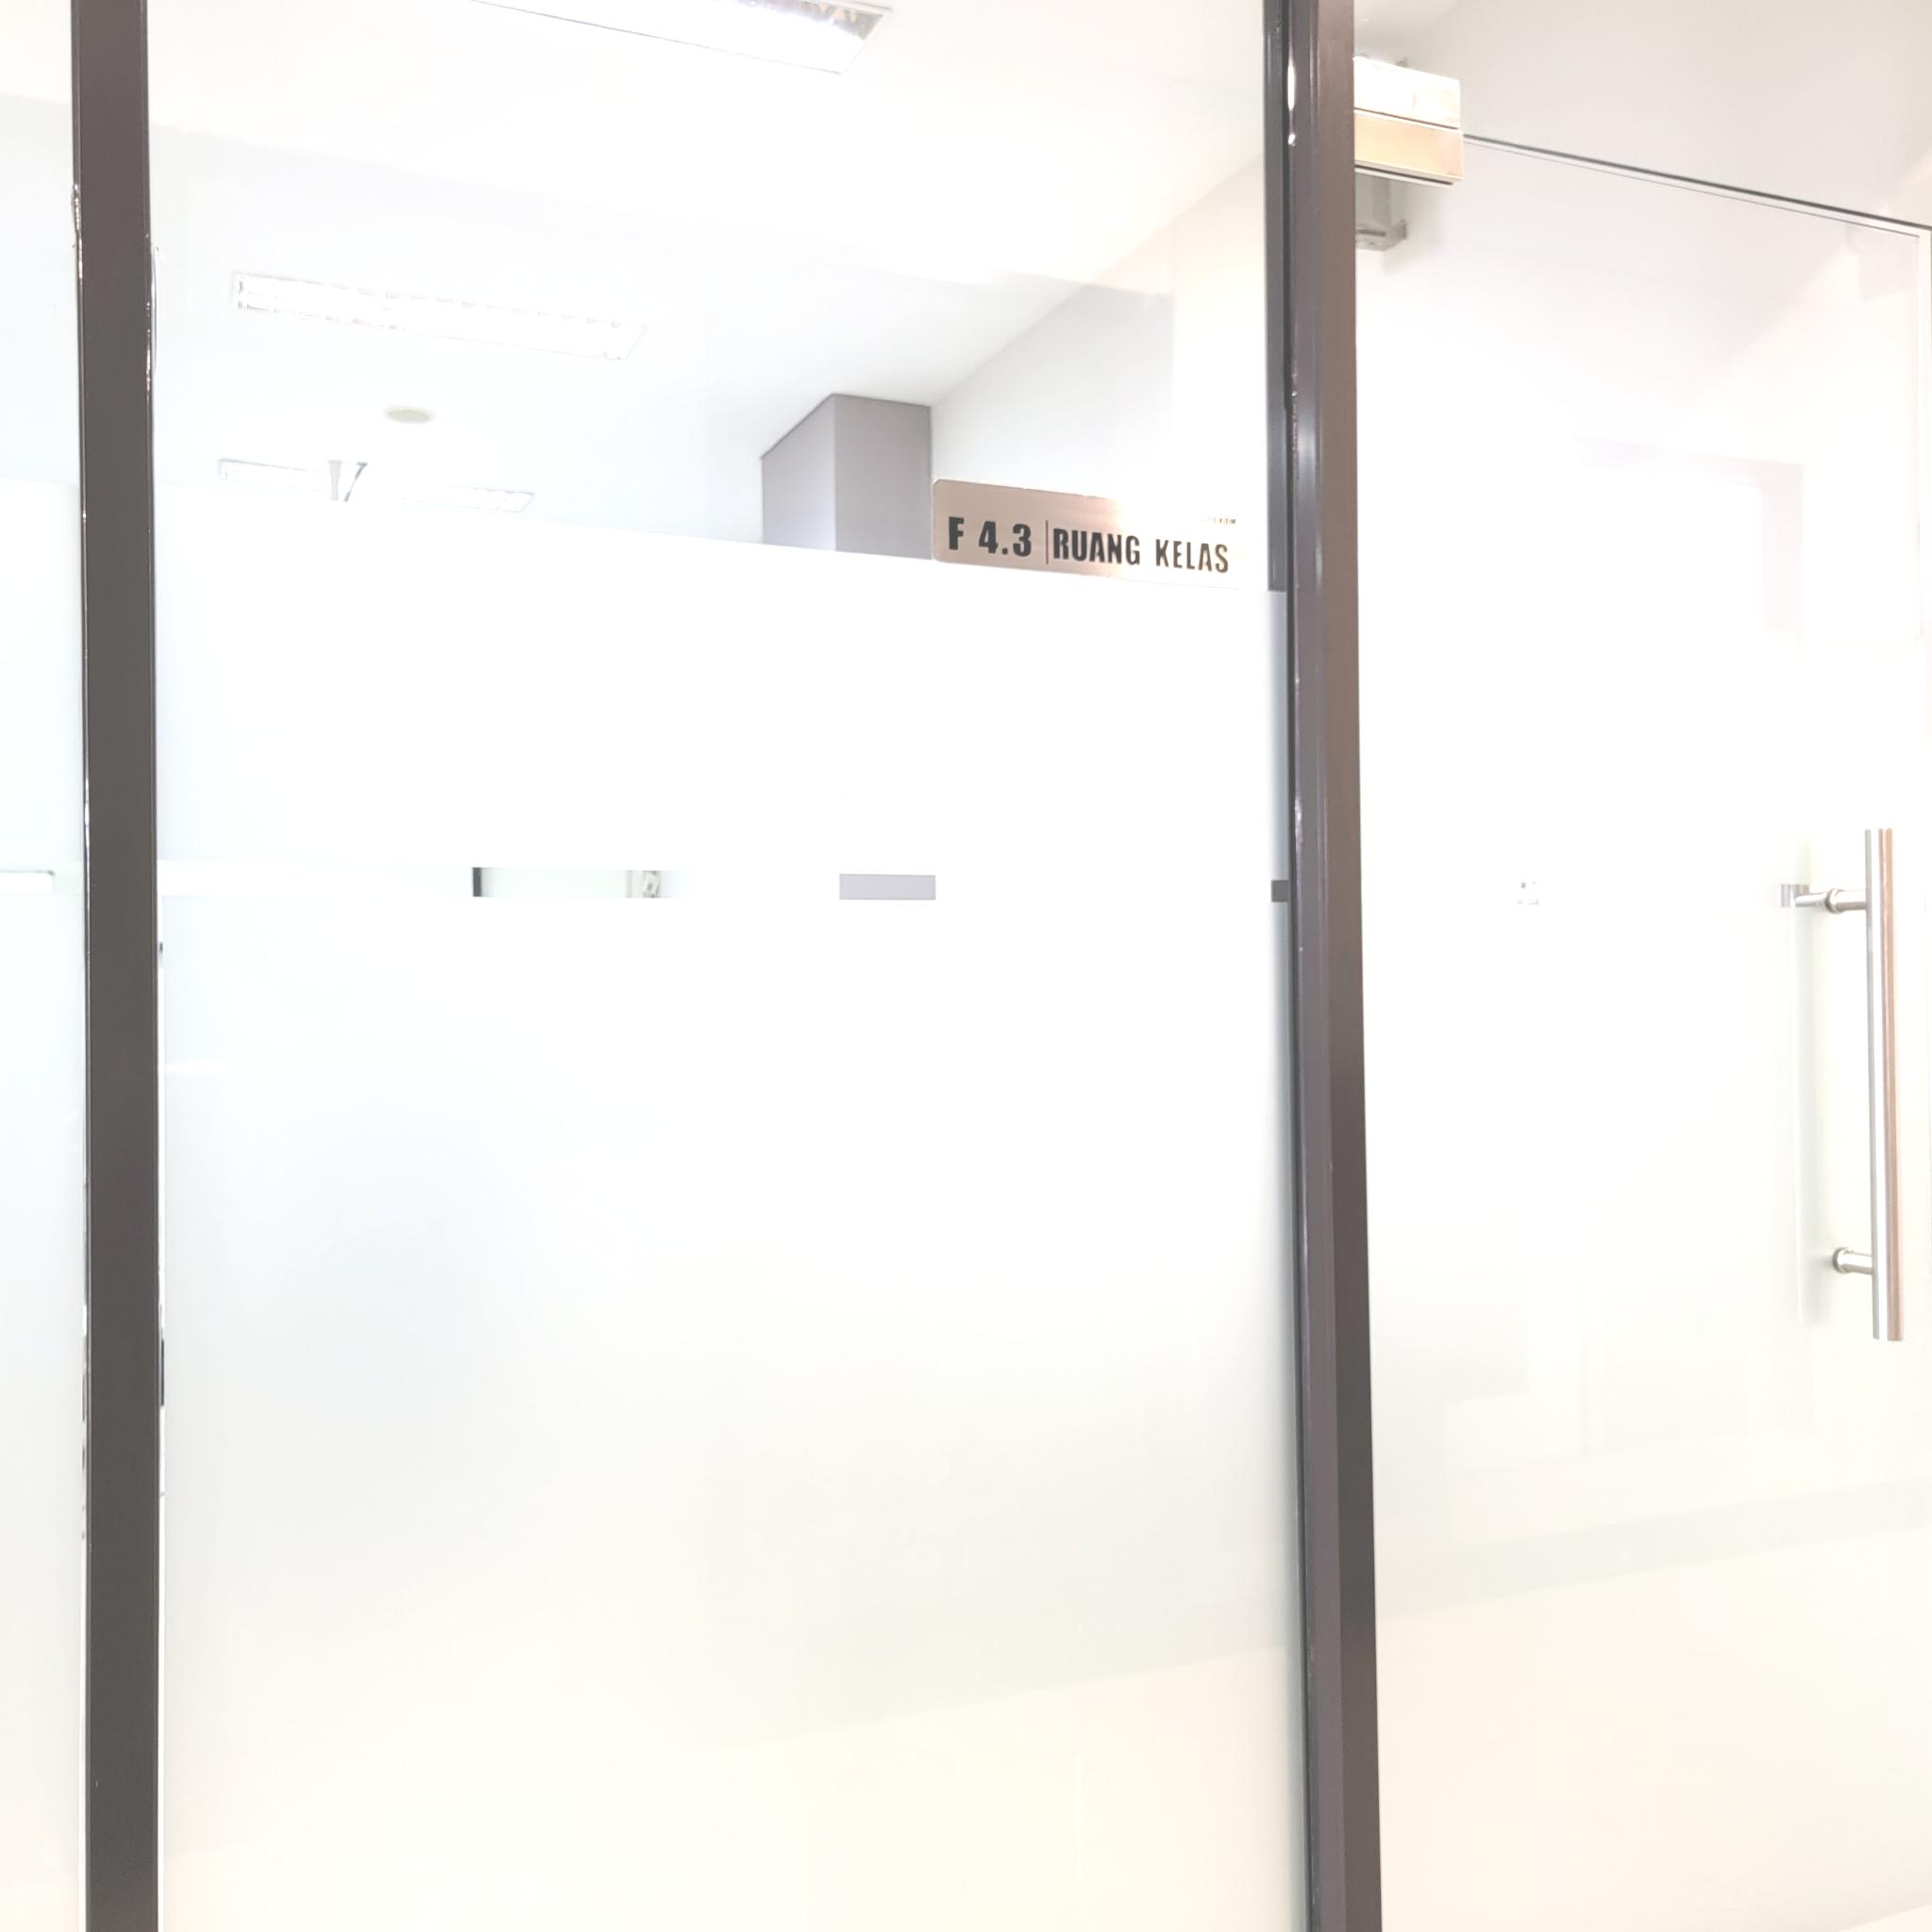plate: (934, 479, 1249, 589)
